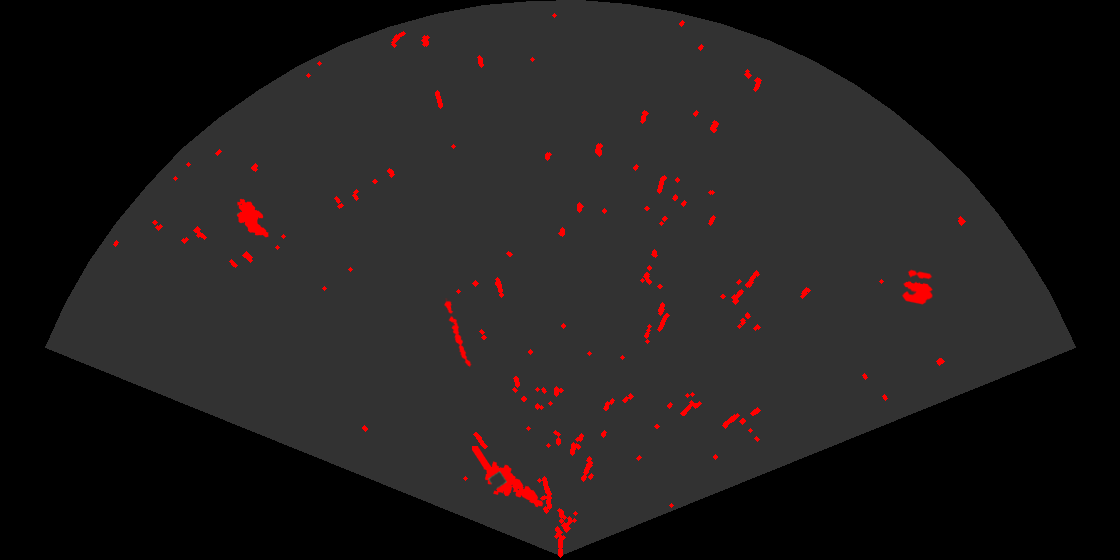AUV: (235, 197, 270, 239)
ball: (900, 268, 934, 306)
chain: (443, 298, 473, 369)
frogman: (472, 446, 545, 509)
